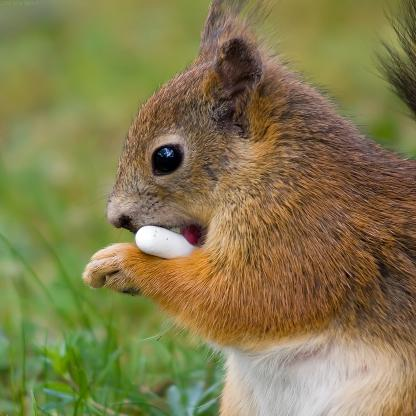Squirrel: (75, 0, 415, 415)
